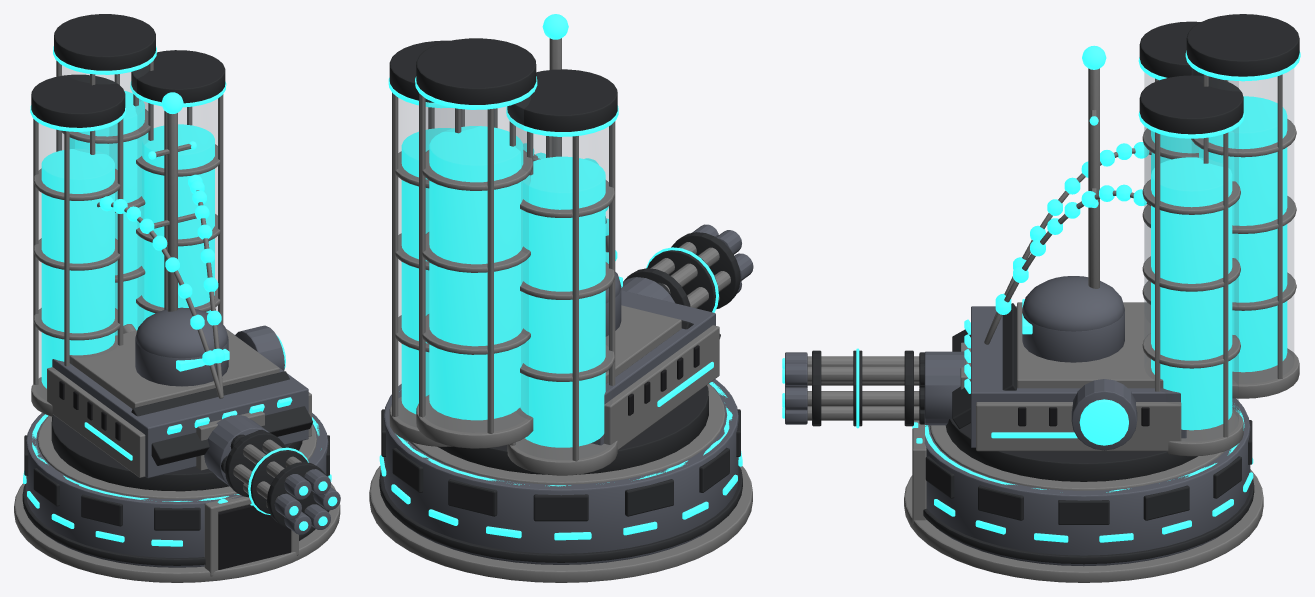
File: Machinegoon_T3.glb
The picture shows the model from 3 angles, left to right: view 1: azimuth 30°, elevation 25°; view 2: azimuth 150°, elevation 25°; view 3: azimuth 270°, elevation 25°; orthographic projection. The views are drawn at different scales.
Parts seen in each view (by area): view 1: Machinegoon_T3_Turret, Machinegoon_T3_Base; view 2: Machinegoon_T3_Turret, Machinegoon_T3_Base; view 3: Machinegoon_T3_Turret, Machinegoon_T3_Base.
Boxes of the visible parts, x1,y1,x2,y2 form: Machinegoon_T3_Turret: (30, 14, 340, 534); Machinegoon_T3_Base: (14, 413, 340, 582); Machinegoon_T3_Turret: (388, 14, 753, 475); Machinegoon_T3_Base: (369, 379, 752, 582); Machinegoon_T3_Turret: (782, 14, 1300, 481); Machinegoon_T3_Base: (904, 398, 1263, 582).
Size of the model in its own units: 3.5 by 5.05 by 5.05.
